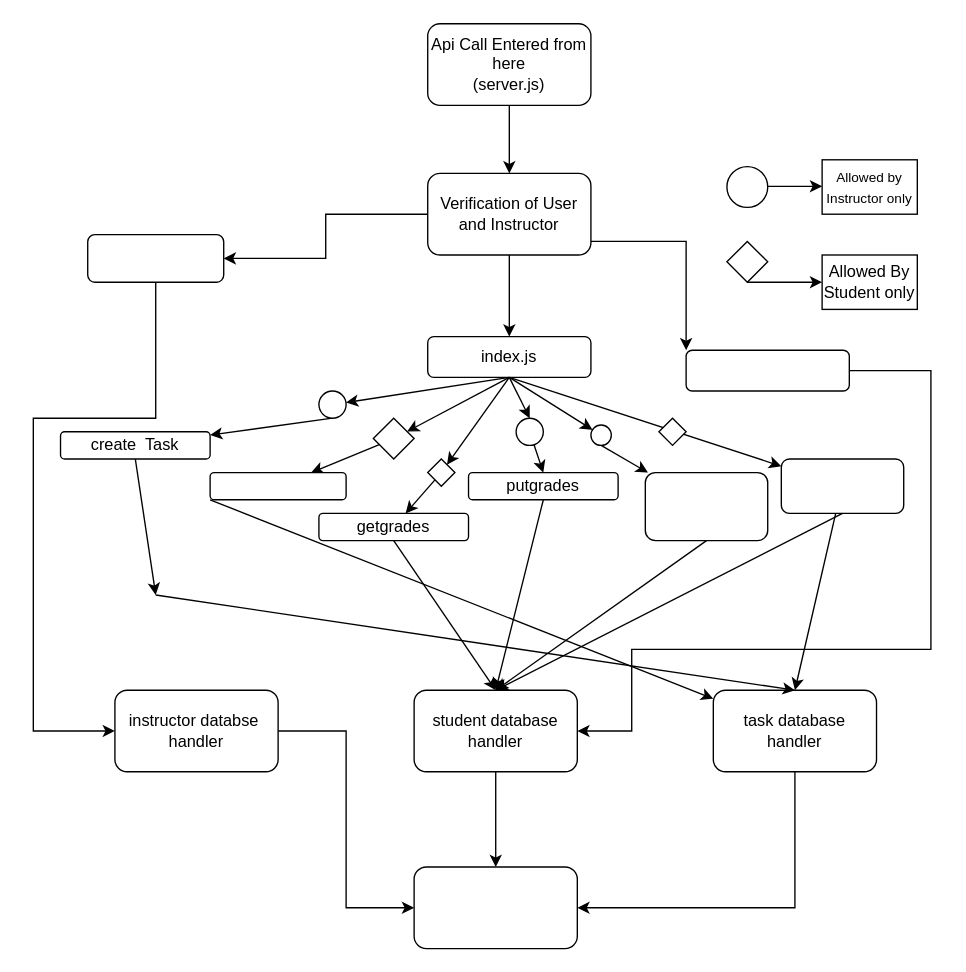
Some shapes in this 966 by 972 pixel diagram are drawn without their labels. The shapes that lost their labels are listed below. From the top down, each one's box as (x1, y1, x2, y2) in pixels, then its label:
(86, 233, 224, 282): create Instructor
(685, 349, 849, 391): create User
(209, 471, 346, 500): fetch task
(780, 458, 904, 513): SubmitTask
(644, 471, 768, 541): student task performance for instructor
(413, 866, 577, 949): Pg (For connection with prodtgresql)
